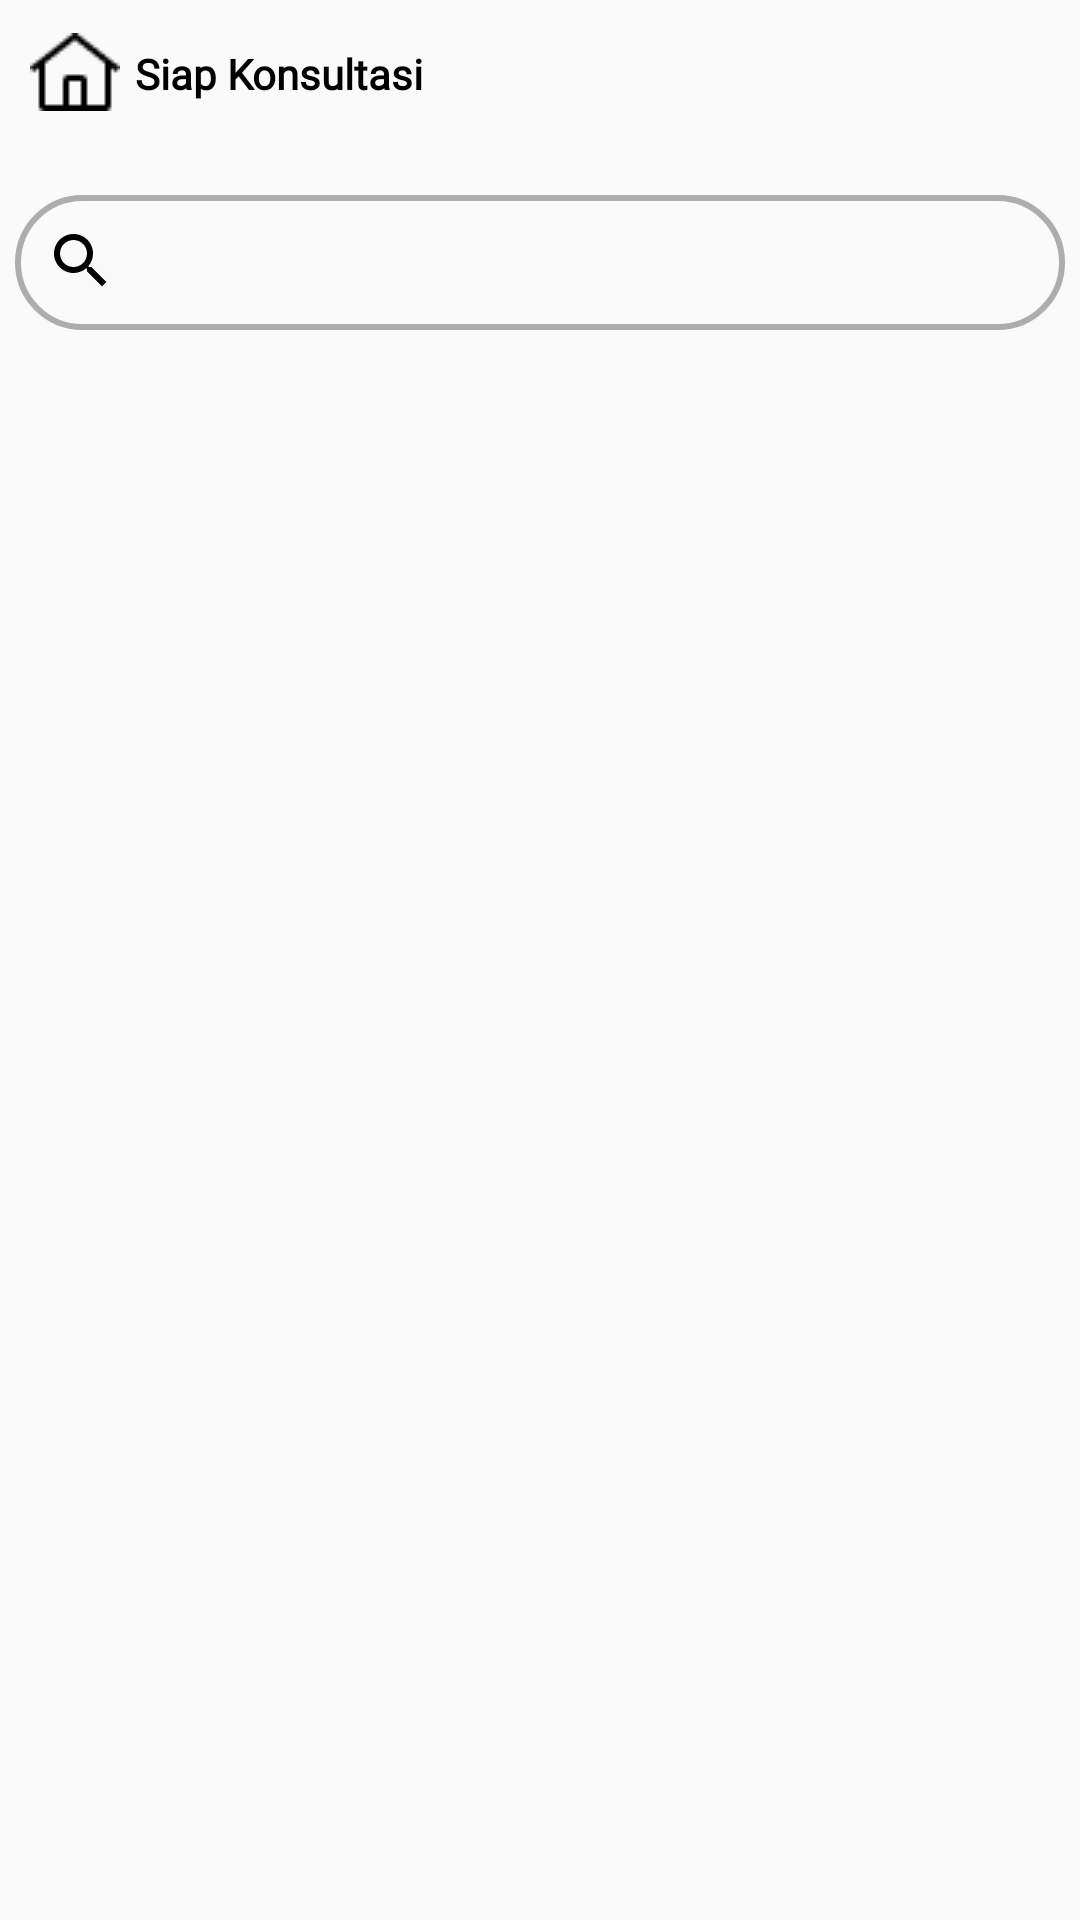

Icons on this 1080w x 1920h Android screen, each with the point to tap as (x=x, y=y):
home: (x=75, y=72)
